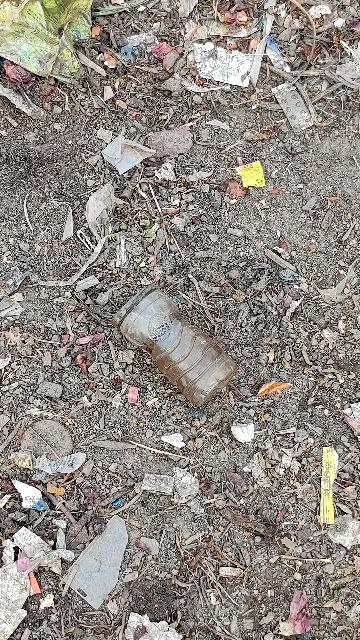bottle: (97, 267, 264, 427)
